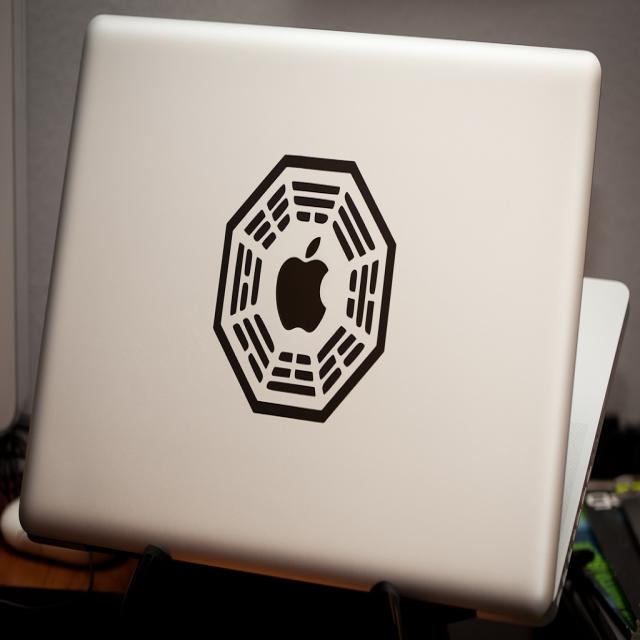apple: (274, 233, 332, 340)
